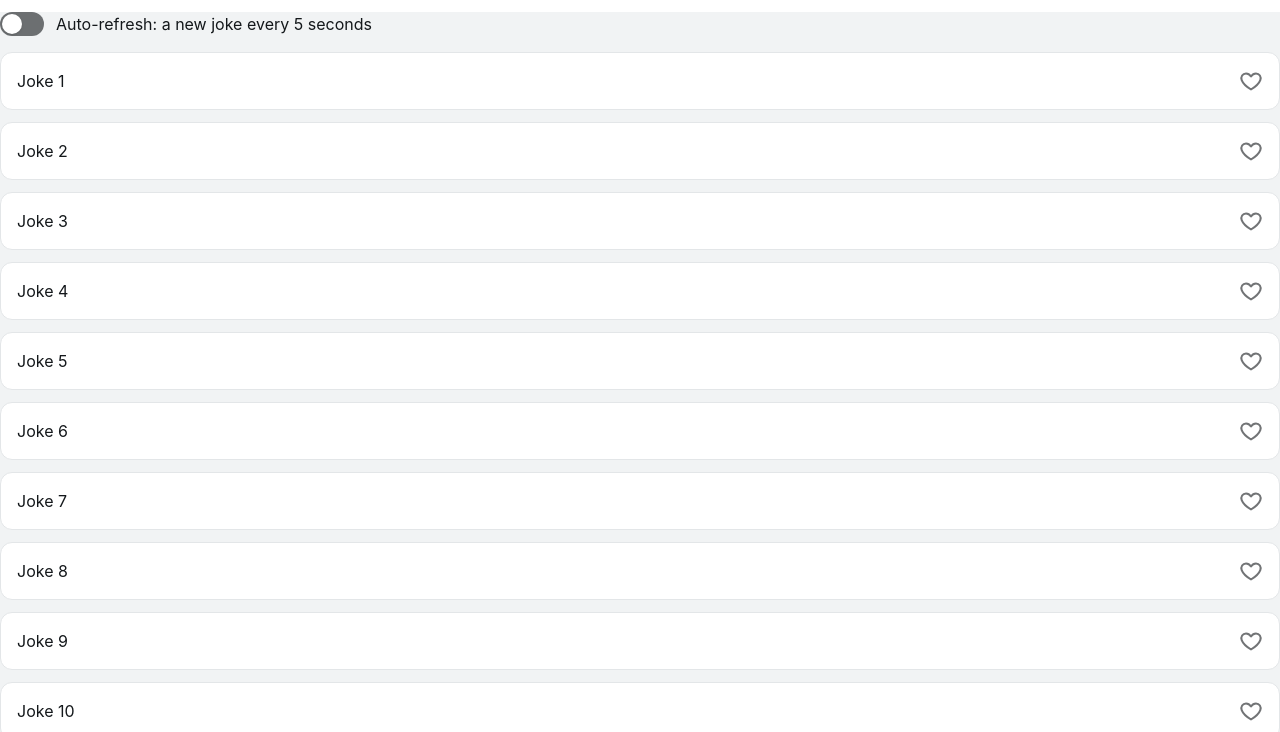
Test: Given JokeList › when the user reaches the maximum of 10 favorites › when the user tries to favorite another joke › then explains the limit
This screenshot has width=1280, height=732.
expect the text "Joke 1" is shown: met, box 17,71 -> 64,91
Step 1. Click the 1st button named "Favorite" → x=1251, y=81, box 1231,61 -> 1271,101
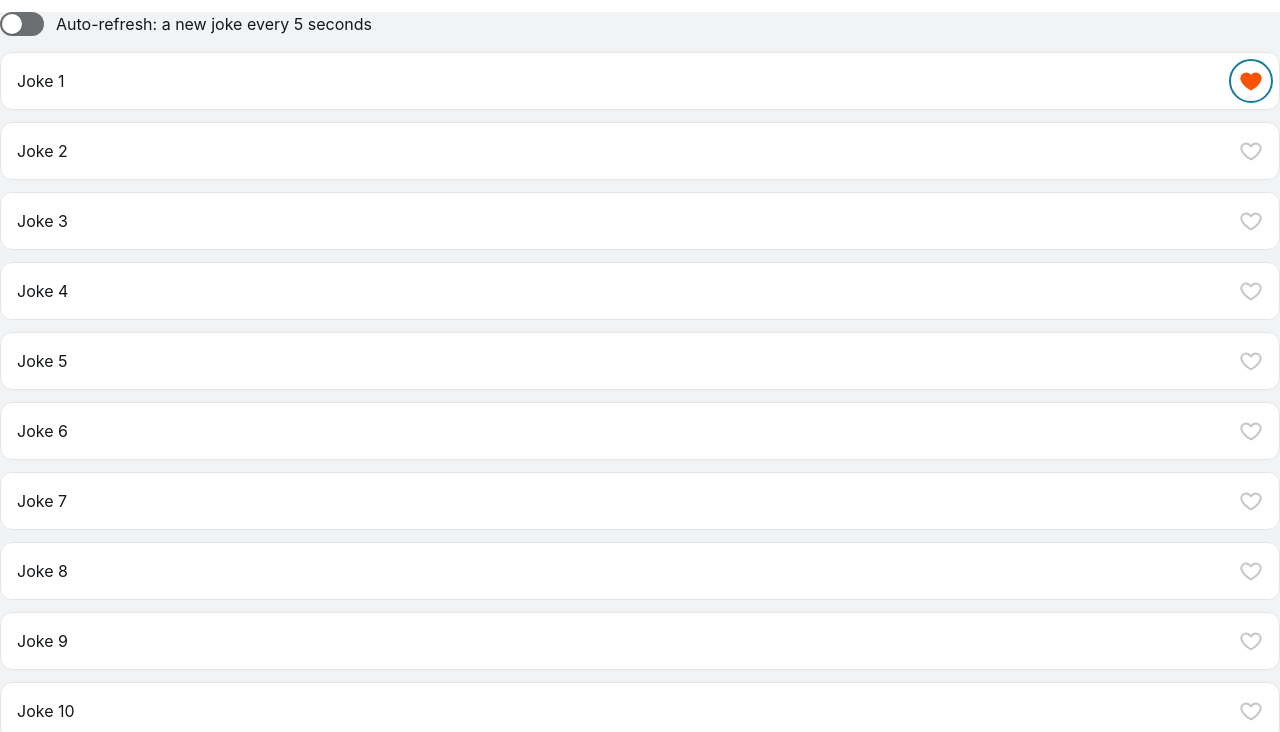
Step 2. Click the button named "Favorite" in the row of "Joke 2" → x=1251, y=151, box 1231,131 -> 1271,171
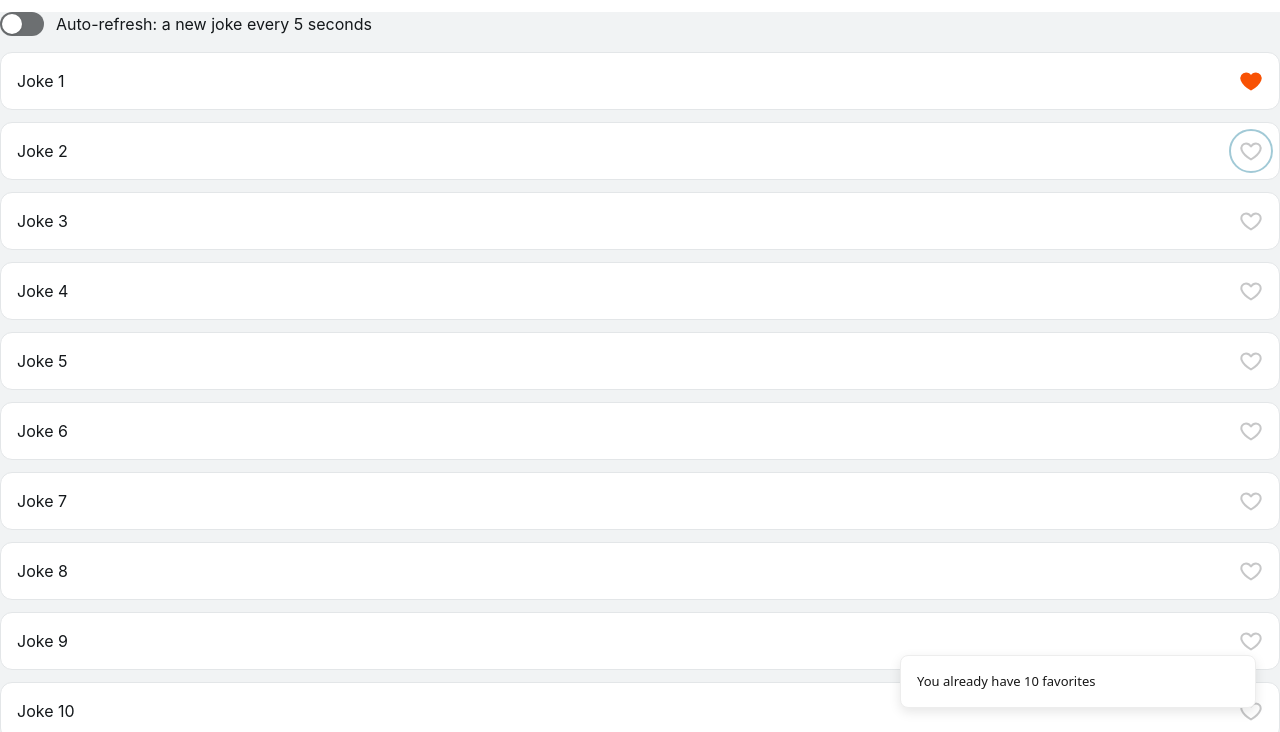
expect the text "You already have 10 favorites" is shown: met, box 917,672 -> 1096,691
